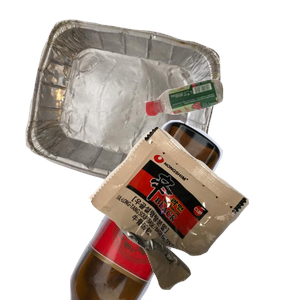glass: (67, 120, 282, 300)
metal: (23, 17, 236, 197)
plastic: (142, 77, 300, 186)
trash: (86, 124, 300, 300)
